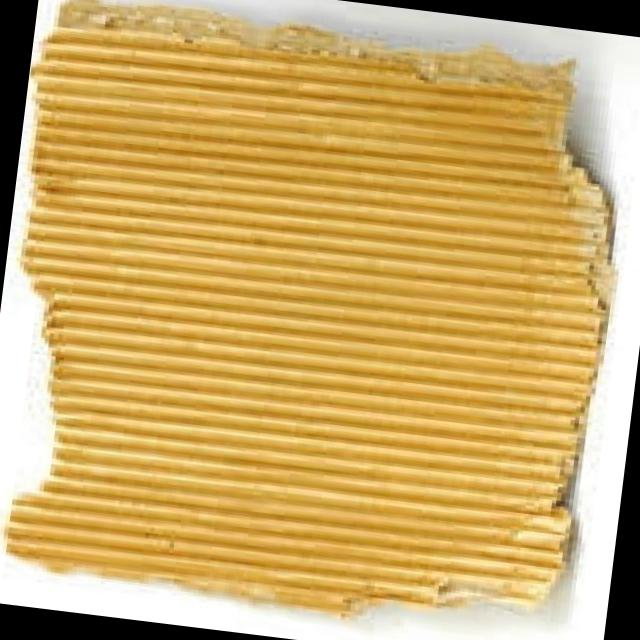cardboard paper: (4, 0, 605, 613)
